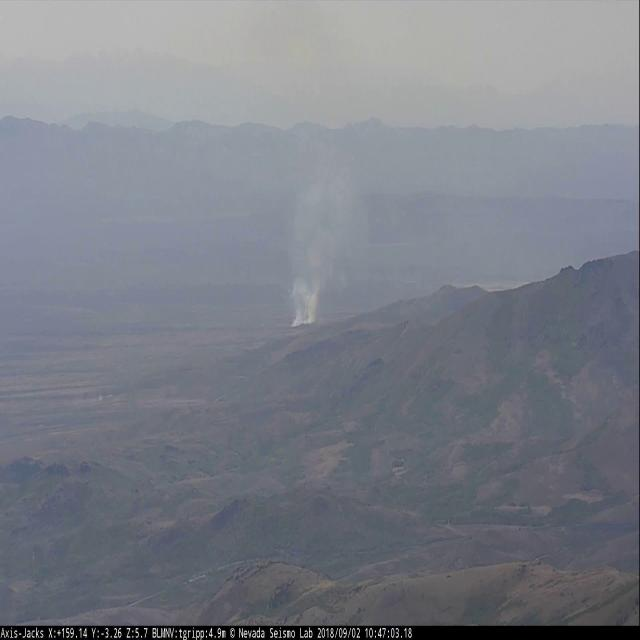smoke: (288, 147, 373, 329)
